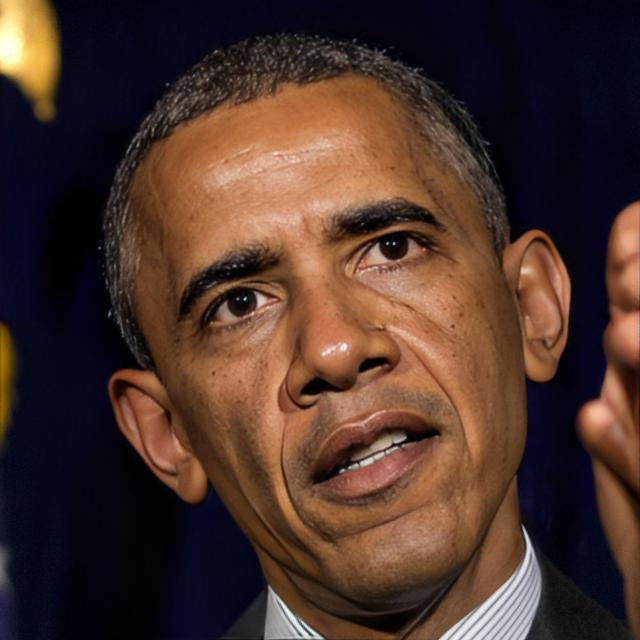anger: (142, 76, 513, 611)
